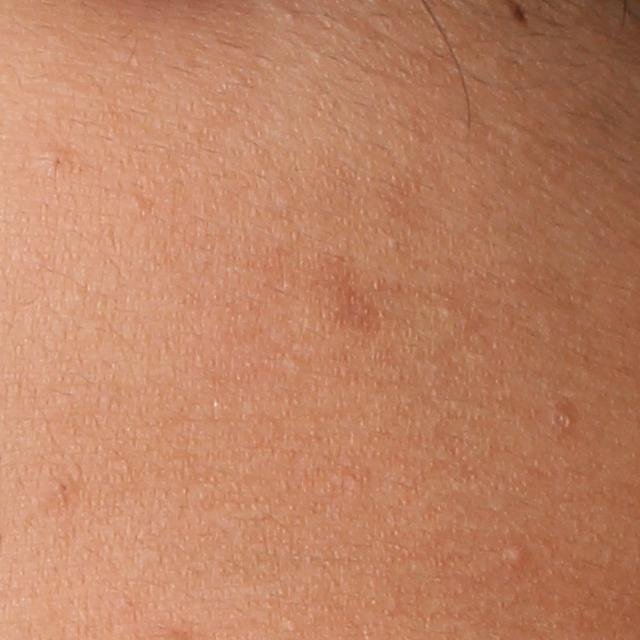comedo: (39, 143, 73, 175), (504, 541, 530, 567), (124, 188, 146, 210), (548, 408, 570, 430), (52, 478, 70, 493)
